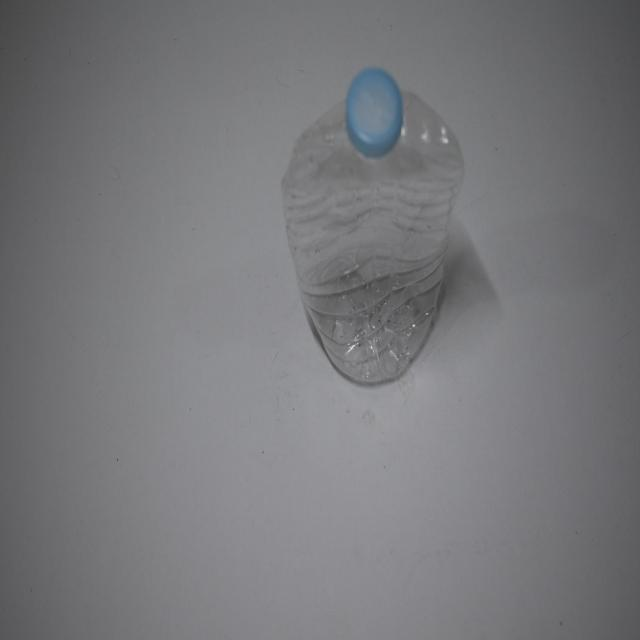plastic: (280, 59, 467, 395)
